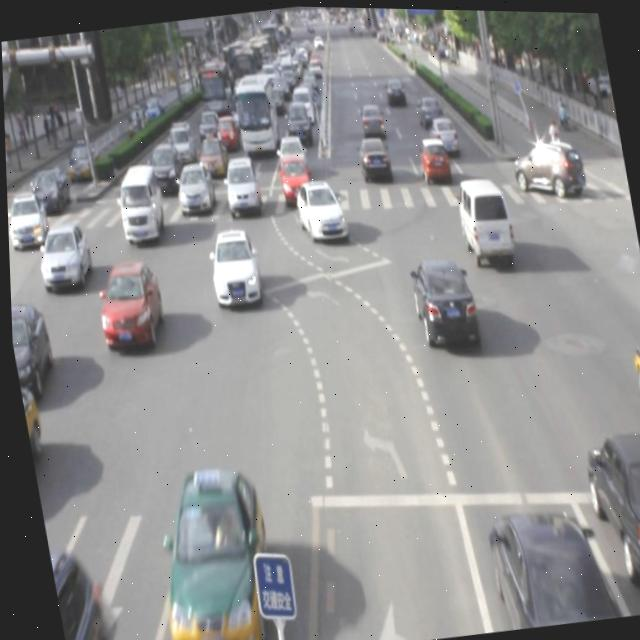car: (136, 457, 278, 640), (479, 497, 610, 631), (576, 419, 640, 591), (405, 250, 478, 349), (91, 256, 166, 348), (44, 540, 106, 640), (203, 224, 261, 310), (291, 175, 345, 242), (625, 323, 640, 433)
truck: (450, 170, 515, 267), (112, 160, 166, 243)
